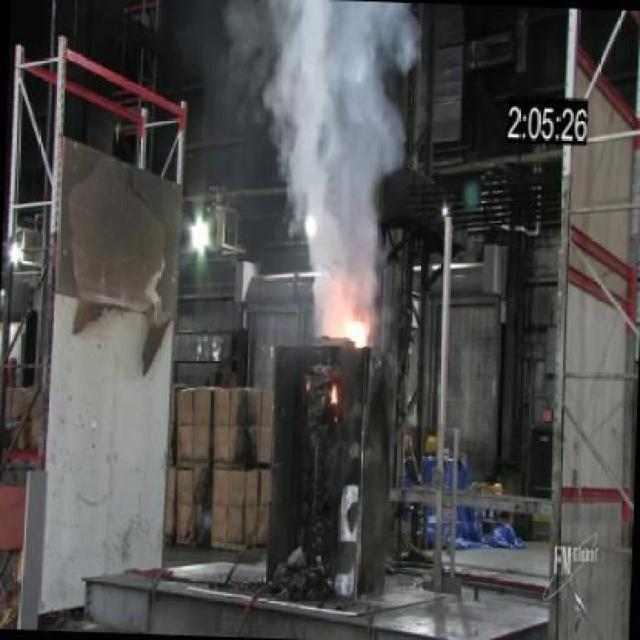fire: (256, 0, 427, 257)
smoke: (343, 314, 372, 350)
